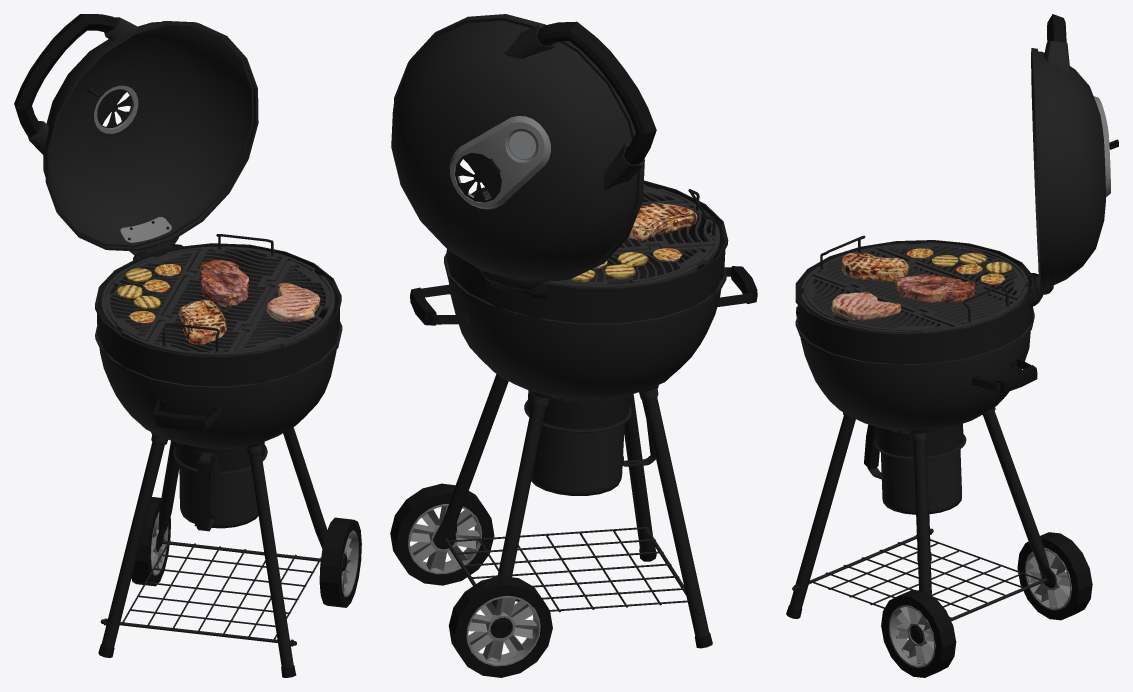
File: napoleonprocharcoal_m.fbx
3 renders of one model, left to right at view 1: azimuth 30°, elevation 25°; view 2: azimuth 150°, elevation 25°; view 3: azimuth 270°, elevation 25°, orthographic. The views are drawn at different scales.
Visible parts, largest first — view 1: Cap_5, body_3, body_6, body_2, body_1, meet, body_4, Cap_3, body_5, Cap_2, body_7, Cap_6; view 2: Cap_5, body_3, body_1, body_2, body_4, body_7, body_6, Cap_2, Cap_3, meet, Cap_6, body_5 (+3 smaller); view 3: body_3, Cap_5, body_2, body_6, body_1, meet, body_4, body_7, body_5, Cap_2.
Boxes of the visible parts, <box> form: Cap_5: <box>27,17,258,257</box>; body_3: <box>95,246,342,642</box>; body_6: <box>101,246,334,356</box>; body_2: <box>95,243,341,474</box>; body_1: <box>100,234,327,668</box>; meet: <box>116,259,320,344</box>; body_4: <box>131,497,361,607</box>; Cap_3: <box>14,14,116,137</box>; body_5: <box>156,410,211,527</box>; Cap_2: <box>94,85,171,242</box>; body_7: <box>150,512,358,596</box>; Cap_6: <box>86,86,171,256</box>; Cap_5: <box>391,14,644,291</box>; body_3: <box>444,184,726,612</box>; body_1: <box>421,189,753,637</box>; body_2: <box>446,180,728,432</box>; body_4: <box>390,483,552,677</box>; body_7: <box>408,503,540,666</box>; body_6: <box>482,184,719,287</box>; Cap_2: <box>449,116,550,209</box>; Cap_3: <box>536,21,656,164</box>; meet: <box>568,203,697,282</box>; Cap_6: <box>455,153,501,202</box>; body_5: <box>410,266,757,458</box>; body_3: <box>795,243,1047,621</box>; Cap_5: <box>1031,40,1105,294</box>; body_2: <box>795,240,1033,459</box>; body_6: <box>801,242,1028,333</box>; body_1: <box>789,235,1055,609</box>; meet: <box>831,248,1012,320</box>; body_4: <box>881,532,1092,677</box>; body_7: <box>889,547,1071,667</box>; body_5: <box>796,306,1037,469</box>; Cap_2: <box>1093,96,1110,196</box>.
Bounding box in the file's own units: 76.96 × 148 × 78.5.
11 materials, 1 textured.
